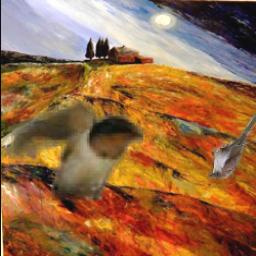Cuckoo: (208, 109, 256, 179)
Swallow: (8, 100, 143, 200)
